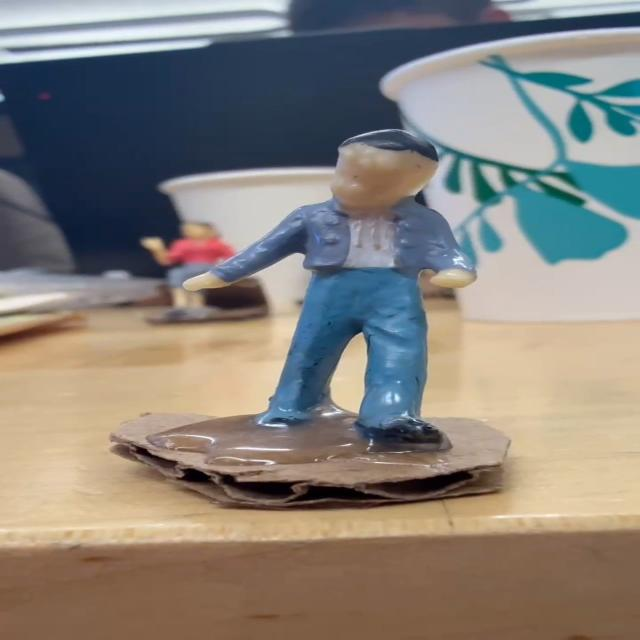Authorized: (183, 129, 472, 447)
